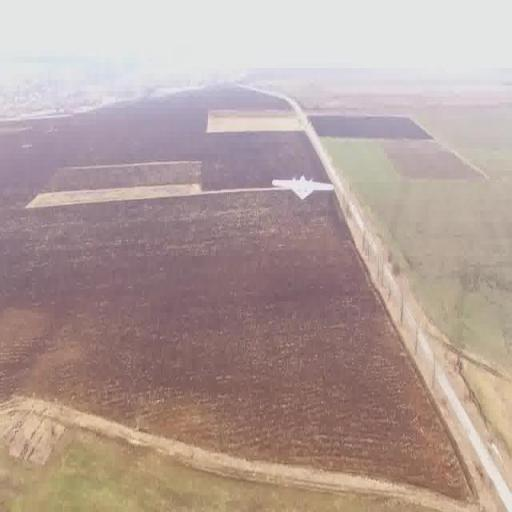uav: (269, 166, 339, 212)
